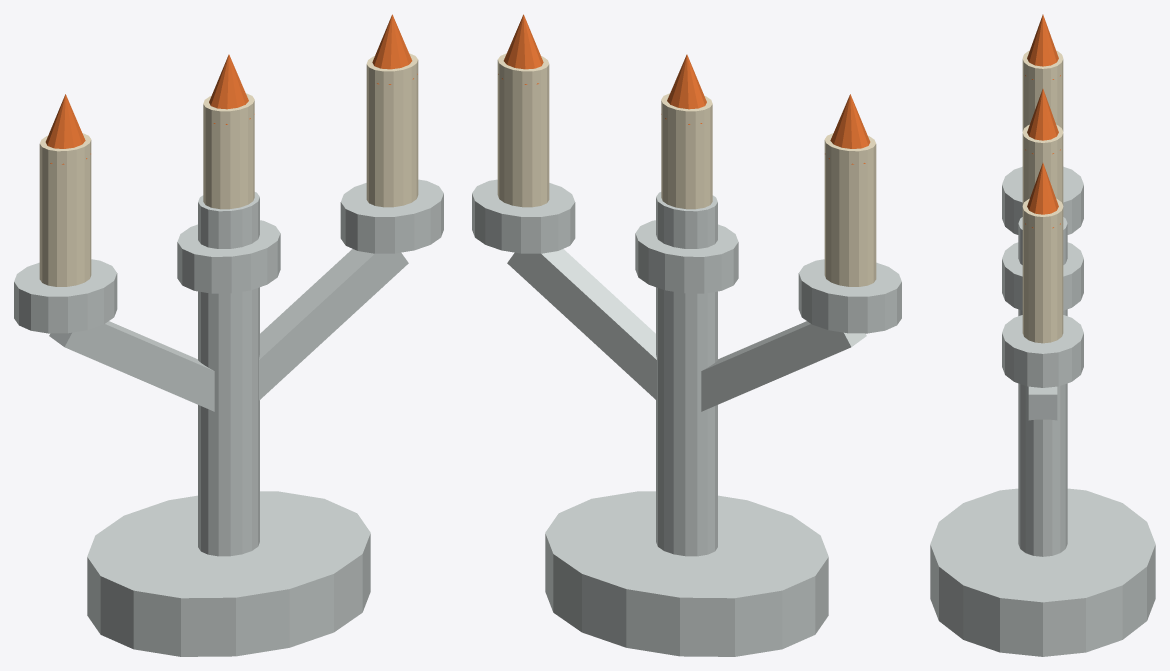
Rendered from reliquia_candelabro.glb.
3 views of the same model, side by side, from view 1: azimuth 30°, elevation 25°; view 2: azimuth 150°, elevation 25°; view 3: azimuth 270°, elevation 25° (orthographic). The views are drawn at different scales.
Visible parts, largest first — view 1: reliquia_candelabro; view 2: reliquia_candelabro; view 3: reliquia_candelabro.
Boxes of the visible parts, bbox=[...] form: reliquia_candelabro: bbox=[14, 14, 443, 656]; reliquia_candelabro: bbox=[472, 14, 901, 656]; reliquia_candelabro: bbox=[930, 14, 1155, 656].
Size of the model in its own units: 2 by 2.5 by 1.
